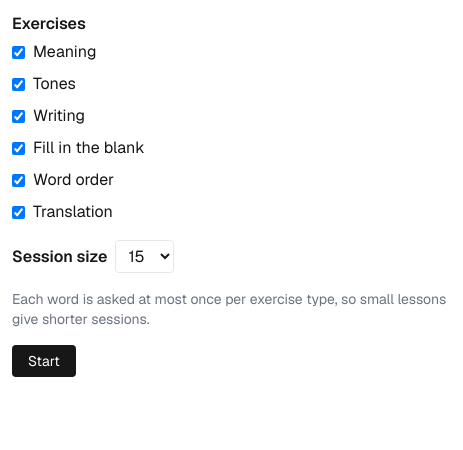
PracticePlayer › explains an empty session instead of starting it
Click the button "Start".
click(44, 361)  # box top-left (12, 345), bottom-right (76, 377)
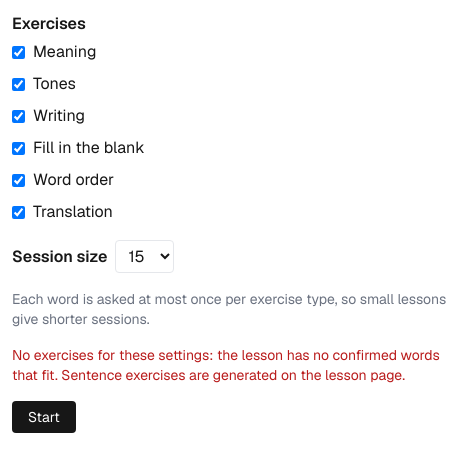
Check: the message shows "No exercises for these settings", box top-left (12, 346), bottom-right (440, 384)
